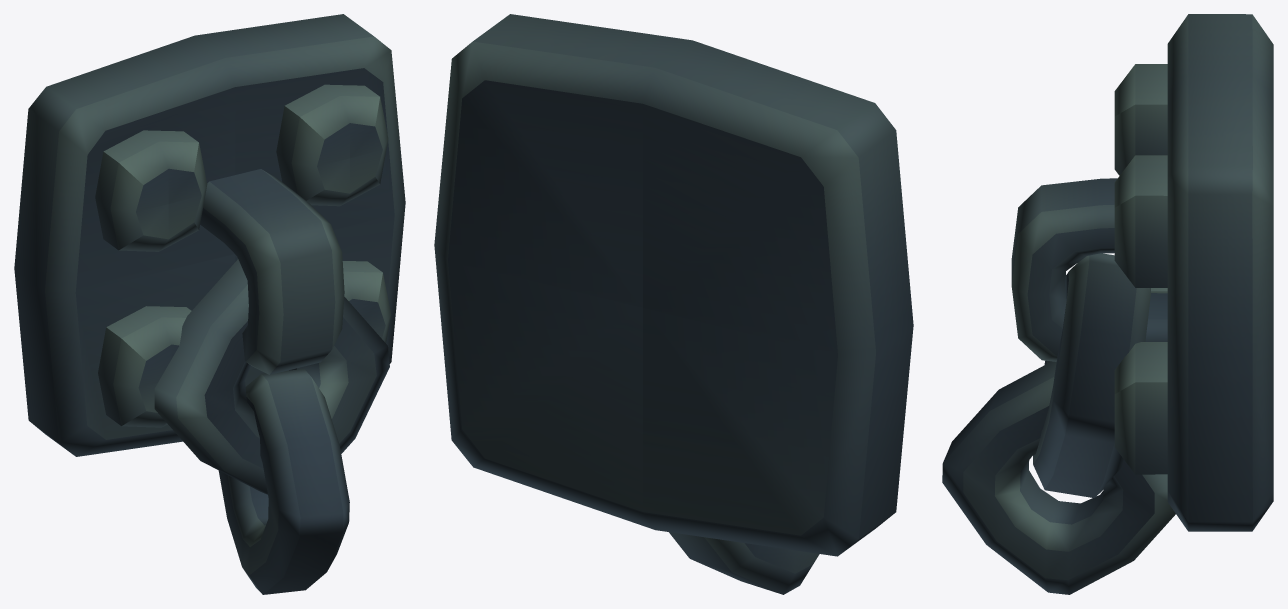
Rendered from wall_shackles_2.fbx.
3 renders of one model, left to right at view 1: azimuth 30°, elevation 25°; view 2: azimuth 150°, elevation 25°; view 3: azimuth 270°, elevation 25°, orthographic. The views are drawn at different scales.
Parts seen in each view (by area): view 1: wall_shackles_2; view 2: wall_shackles_2; view 3: wall_shackles_2.
Boxes of the visible parts, x1,y1,x2,y2 form: wall_shackles_2: [14, 14, 405, 594]; wall_shackles_2: [434, 14, 913, 594]; wall_shackles_2: [942, 14, 1273, 594].
Bounding box in the file's own units: 87.44 × 113 × 66.27.
